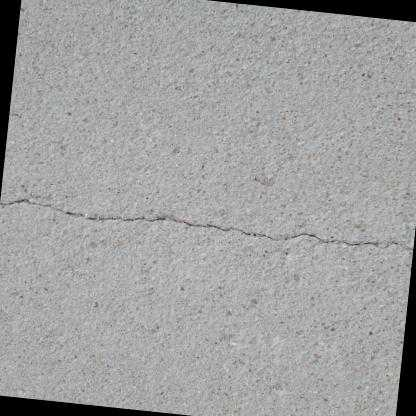crack: (0, 199, 413, 249)
